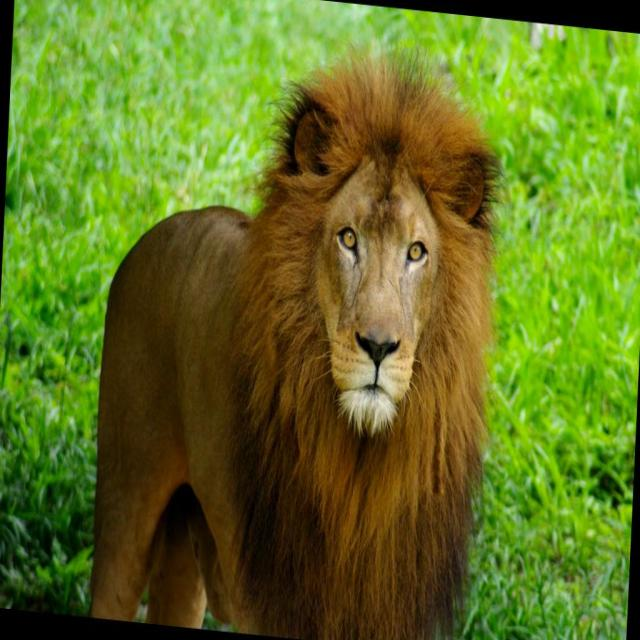Lion: (88, 4, 518, 639)
